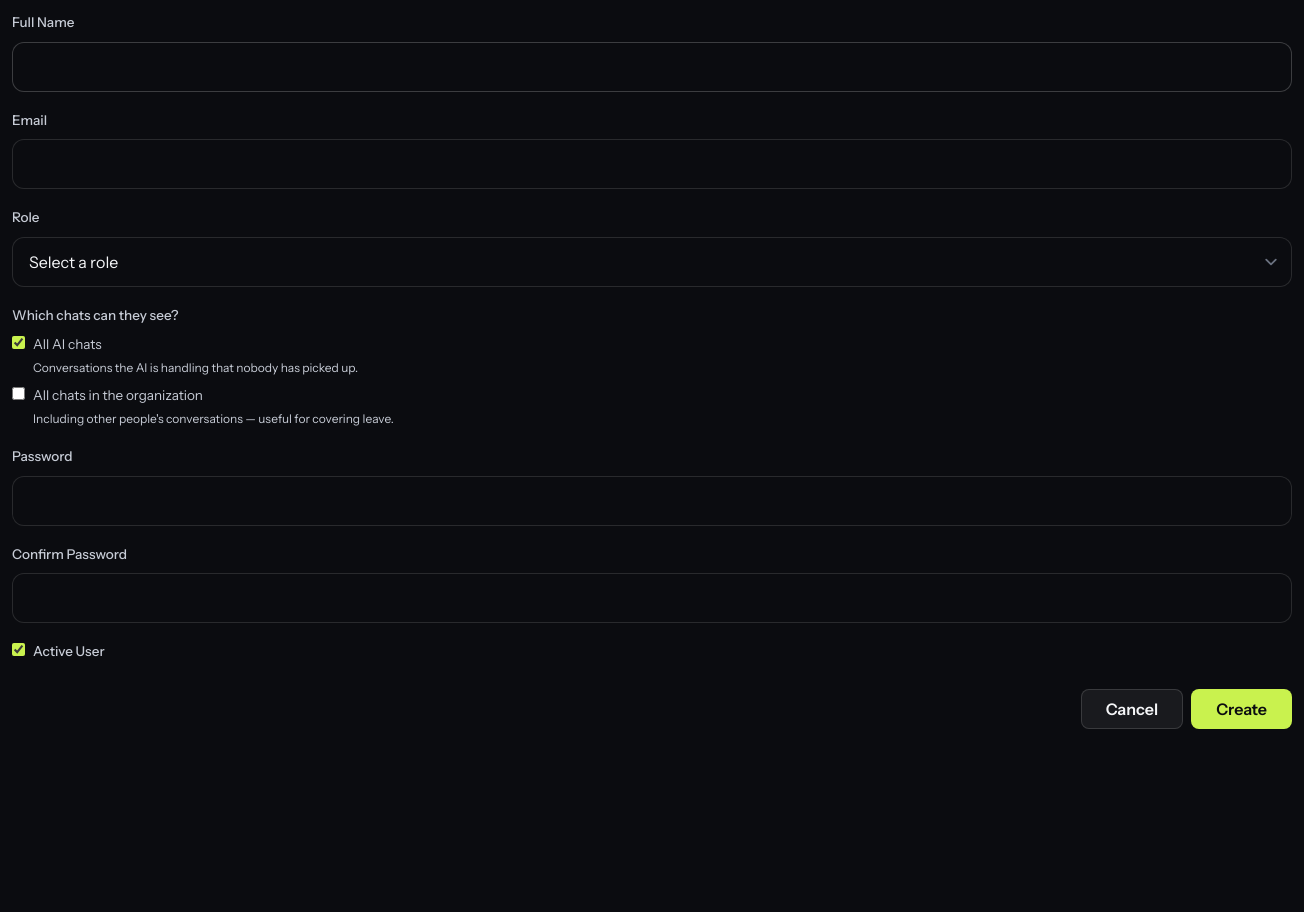
Test: UserForm – chat scope toggles › hides the toggles for a super_admin role, where they grant nothing
Select "Owner" in the dropdown with id "role" at (652,262), box [12,237,1292,287]
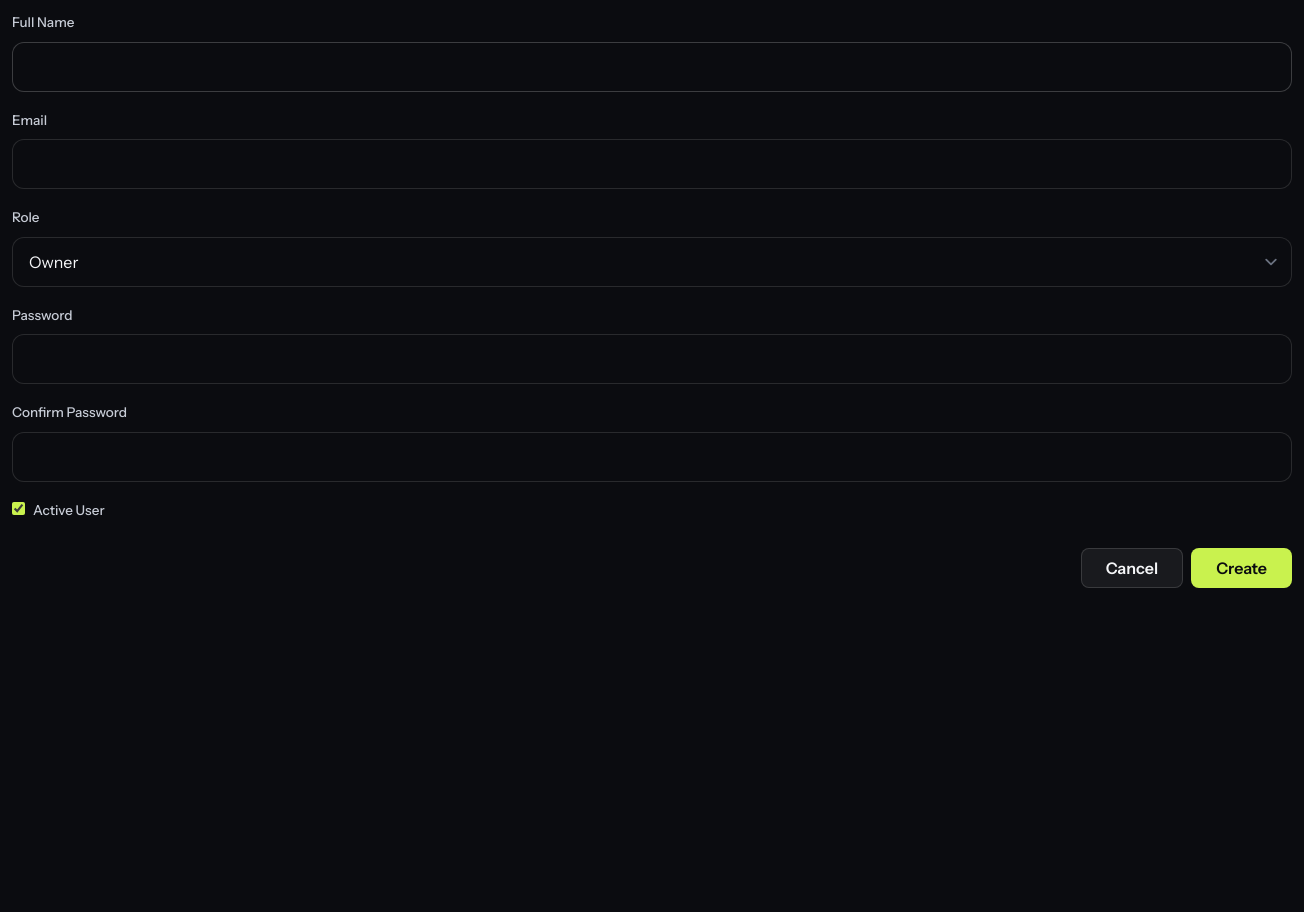
Now the number of checkboxes is 1, box [12,502,25,515]
